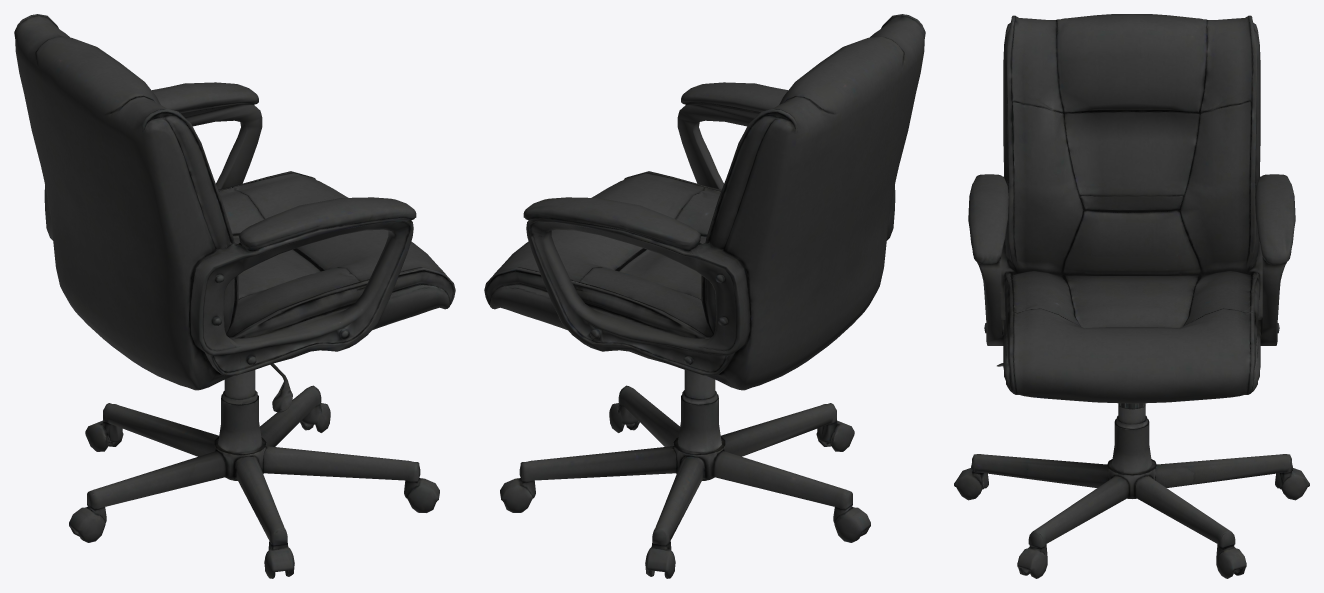
Rendered from tripo_convert_5ee0f036-826d-499a-9854-f2e0308d98b5.fbx.
3 views of the same model, side by side, from view 1: azimuth 30°, elevation 25°; view 2: azimuth 150°, elevation 25°; view 3: azimuth 270°, elevation 25° (orthographic). The views are drawn at different scales.
Visible parts, largest first — view 1: tripo_node_5ee0f036; view 2: tripo_node_5ee0f036; view 3: tripo_node_5ee0f036.
Boxes of the visible parts, bbox=[...] form: tripo_node_5ee0f036: bbox=[14, 14, 455, 578]; tripo_node_5ee0f036: bbox=[484, 14, 925, 578]; tripo_node_5ee0f036: bbox=[954, 14, 1309, 578].
Bounding box in the file's own units: 0.7317 × 0.9978 × 0.7375.
